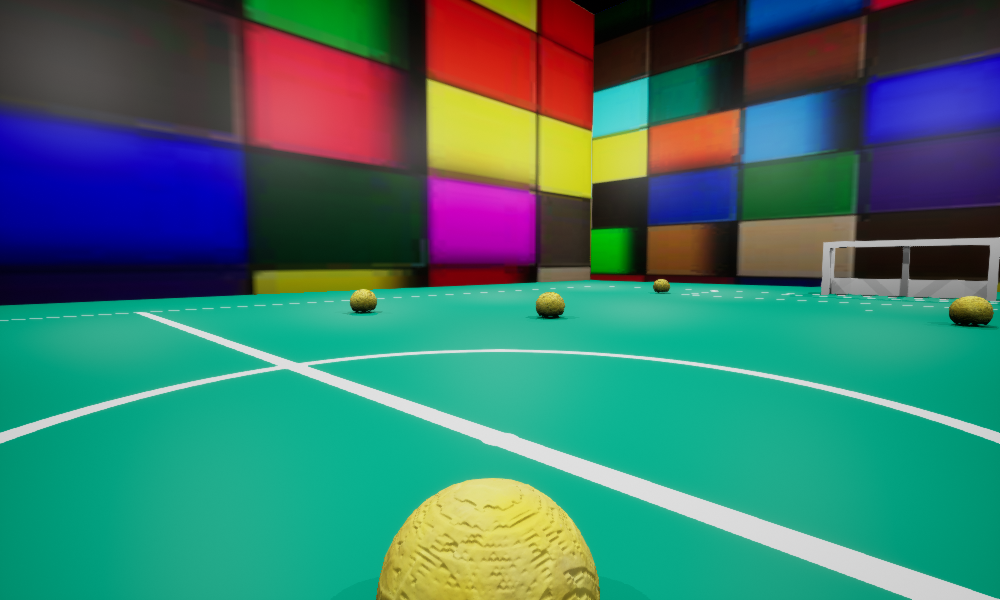b: (376, 478, 599, 599), (949, 296, 993, 326), (536, 292, 564, 317), (350, 289, 376, 312), (653, 279, 669, 292)
g: (821, 237, 999, 300)
